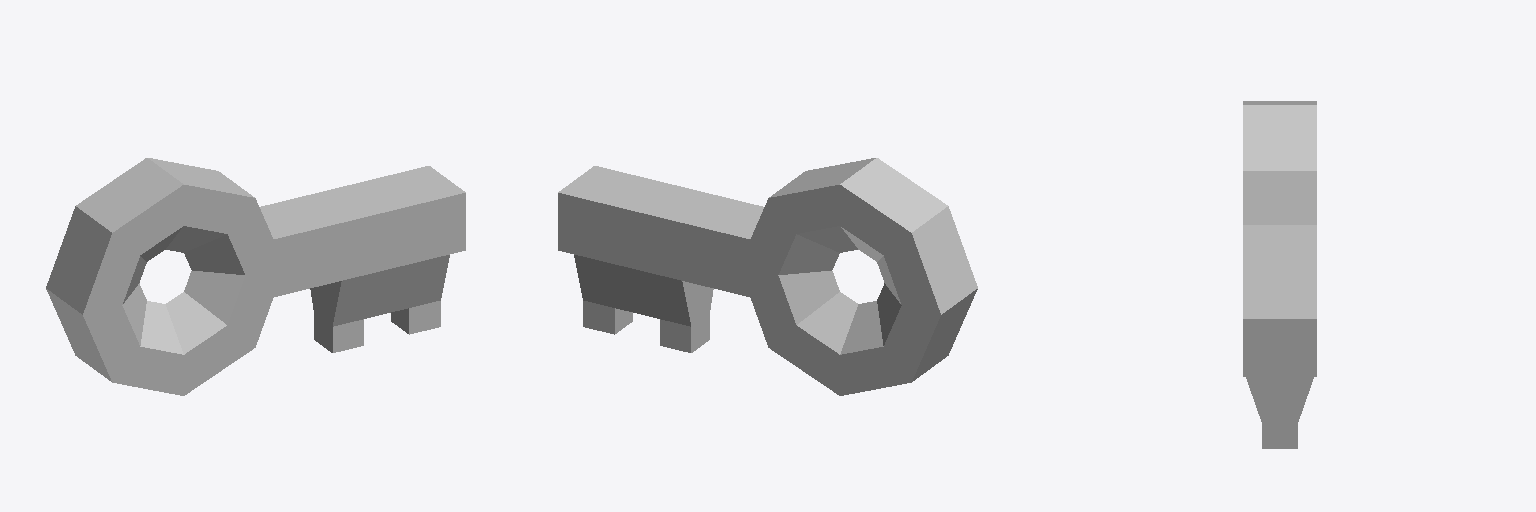
The model's file is key.obj.
The picture shows the model from 3 angles: view 1: azimuth 30°, elevation 25°; view 2: azimuth 150°, elevation 25°; view 3: azimuth 270°, elevation 25°; orthographic projection.
Parts seen in each view (by area): view 1: key; view 2: key; view 3: key.
Boxes of the visible parts, <box> form: key: <box>46,158,465,395</box>; key: <box>558,158,977,395</box>; key: <box>1243,101,1316,448</box>.
Size of the model in its own units: 0.4067 by 0.2172 by 0.0679.